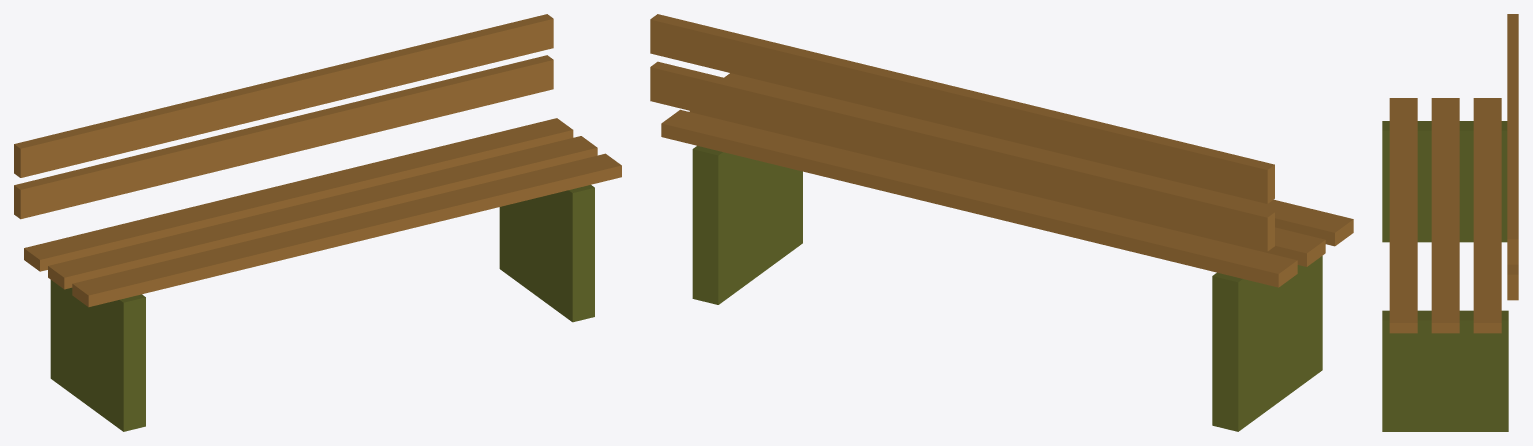
The model's file is SM_KitSueltas_v0_LOD0.fbx.
The picture shows the model from 3 angles, left to right: view 1: azimuth 30°, elevation 25°; view 2: azimuth 150°, elevation 25°; view 3: azimuth 270°, elevation 25°; orthographic projection. The views are drawn at different scales.
Visible parts, largest first — view 1: SM_bloques.kit_sueltas_v0_LOD0; view 2: SM_bloques.kit_sueltas_v0_LOD0; view 3: SM_bloques.kit_sueltas_v0_LOD0.
Boxes of the visible parts, x1=… form: SM_bloques.kit_sueltas_v0_LOD0: x1=14, y1=14, x2=621, y2=431; SM_bloques.kit_sueltas_v0_LOD0: x1=650, y1=14, x2=1353, y2=431; SM_bloques.kit_sueltas_v0_LOD0: x1=1382, y1=14, x2=1518, y2=431.
Bounding box in the file's own units: 1.9 × 0.81 × 0.485.
